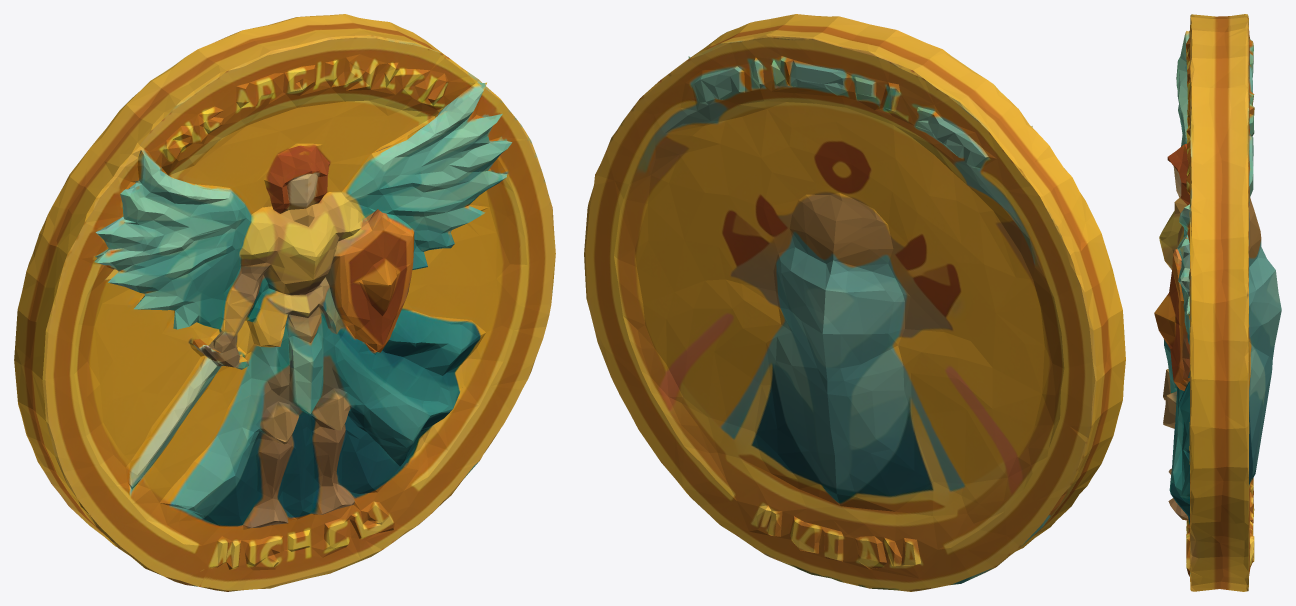
The model's file is the-archangel-michael-watches-over-us-challenge-co.glb.
3 renders of one model, left to right at view 1: azimuth 30°, elevation 25°; view 2: azimuth 150°, elevation 25°; view 3: azimuth 270°, elevation 25°, orthographic. The views are drawn at different scales.
Visible parts, largest first — view 1: tmpp4a9_w55.ply; view 2: tmpp4a9_w55.ply; view 3: tmpp4a9_w55.ply.
Boxes of the visible parts, box(x1,y1,x2,y2) form: tmpp4a9_w55.ply: box(14, 14, 555, 591); tmpp4a9_w55.ply: box(584, 14, 1125, 591); tmpp4a9_w55.ply: box(1154, 14, 1281, 591).
Bounding box in the file's own units: 1.99 × 1.99 × 0.4451.
1 material, 1 textured.
